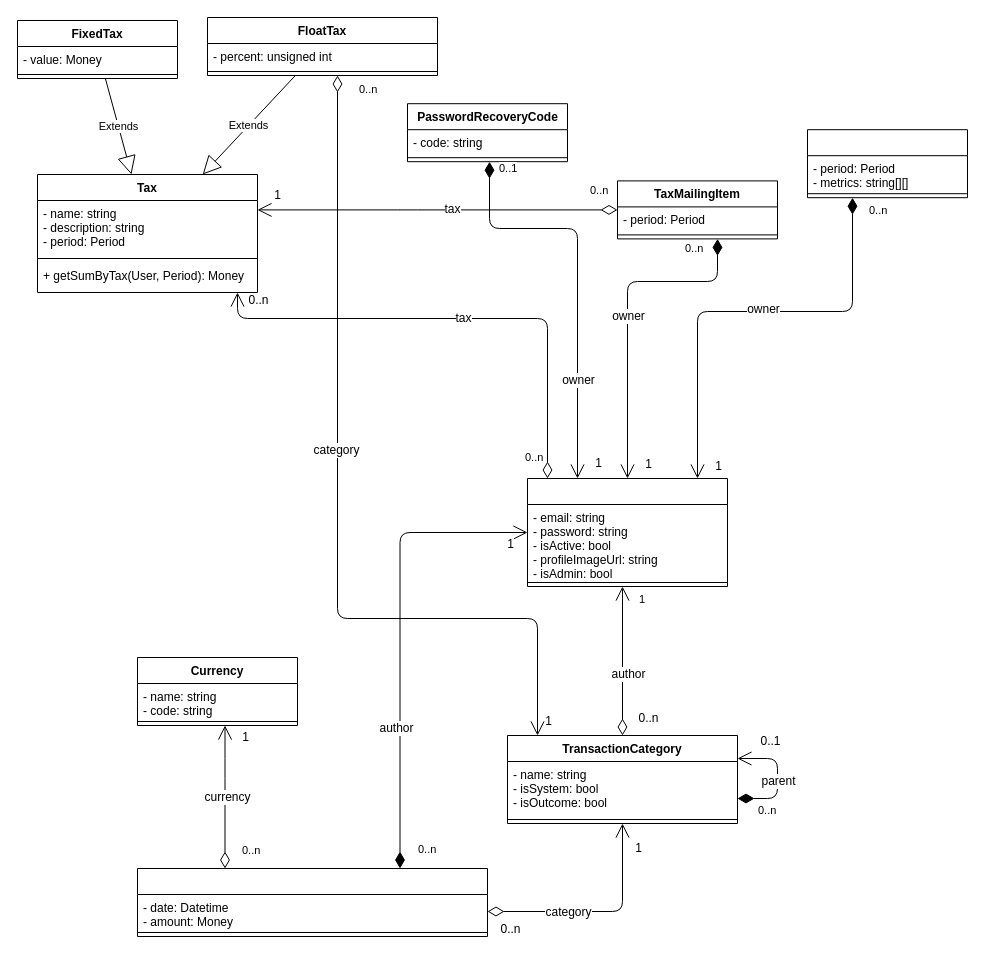
This 985x954 diagram has some shape labels left out. Each missing label, with the box of its shape:
MetricMailingItem: (806, 129, 968, 198)
Transaction: (136, 868, 488, 936)
User: (526, 478, 728, 586)
